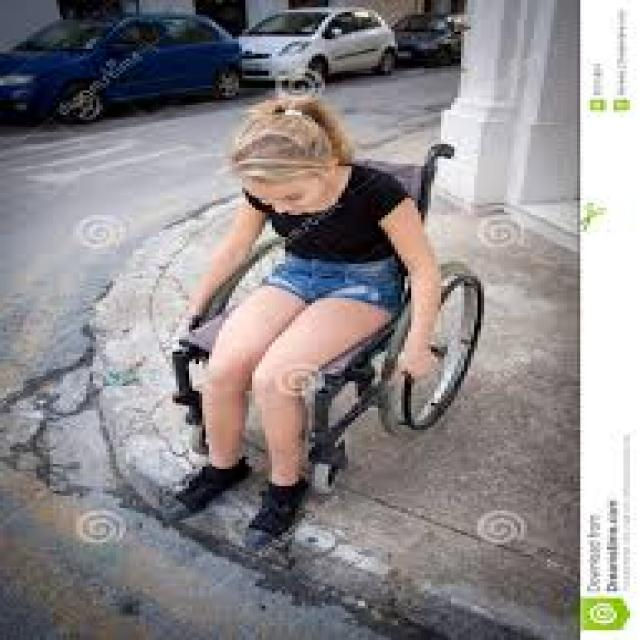wheelchairs: (302, 244, 504, 493)
